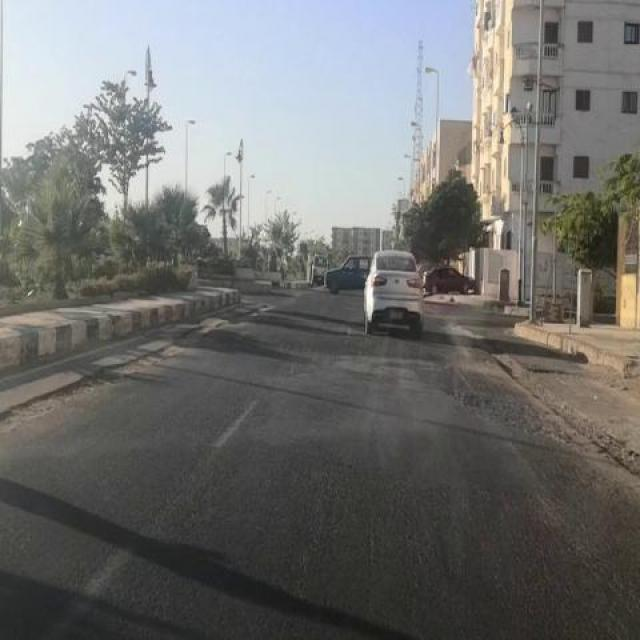Pothole: (68, 353, 150, 399), (0, 384, 72, 436), (151, 328, 203, 366), (228, 299, 276, 329)
Unmarked Bump: (198, 319, 488, 361)
